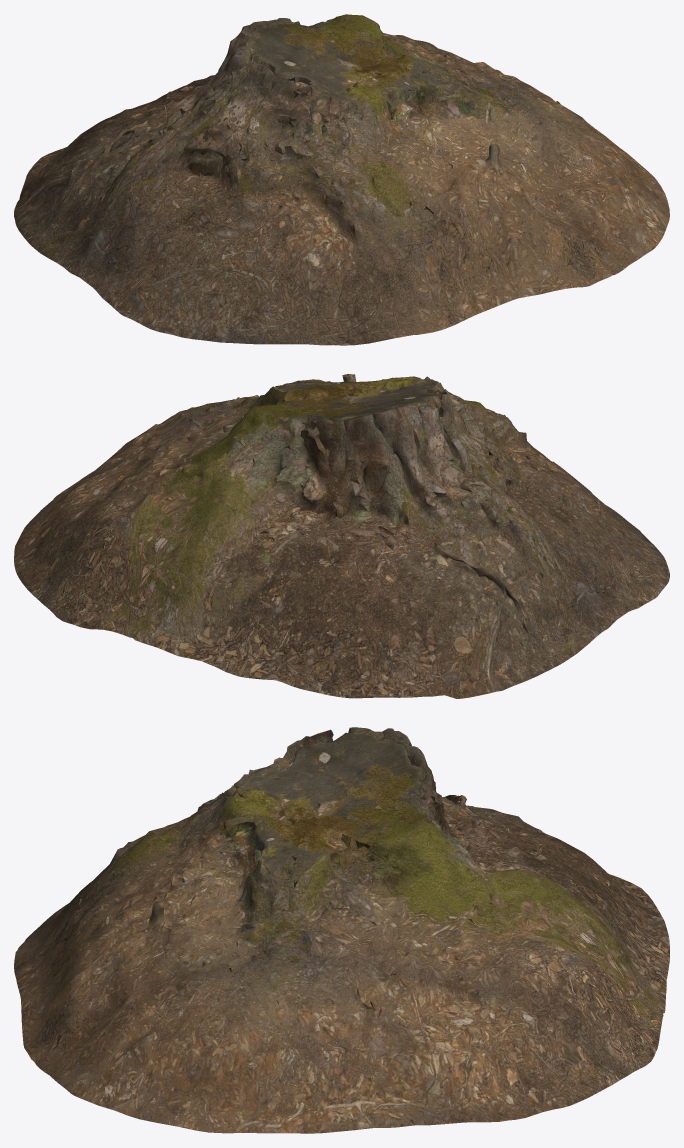
The model's file is stump_b.glb.
The picture shows the model from 3 angles, top to bottom: view 1: azimuth 30°, elevation 25°; view 2: azimuth 150°, elevation 25°; view 3: azimuth 270°, elevation 25°; orthographic projection. The views are drawn at different scales.
Parts seen in each view (by area): view 1: stump_b; view 2: stump_b; view 3: stump_b.
Part boxes in pixels (x1,y1,x2,y2): stump_b: (14,14,669,345); stump_b: (14,374,669,698); stump_b: (14,727,669,1133).
Bounding box in the file's own units: 1.52 × 0.5229 × 1.39.
1 material, 1 textured.
